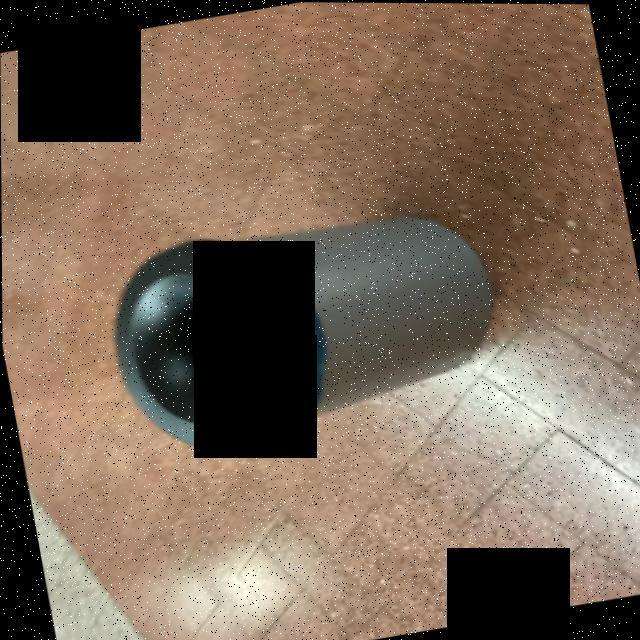bin: (74, 173, 527, 481)
